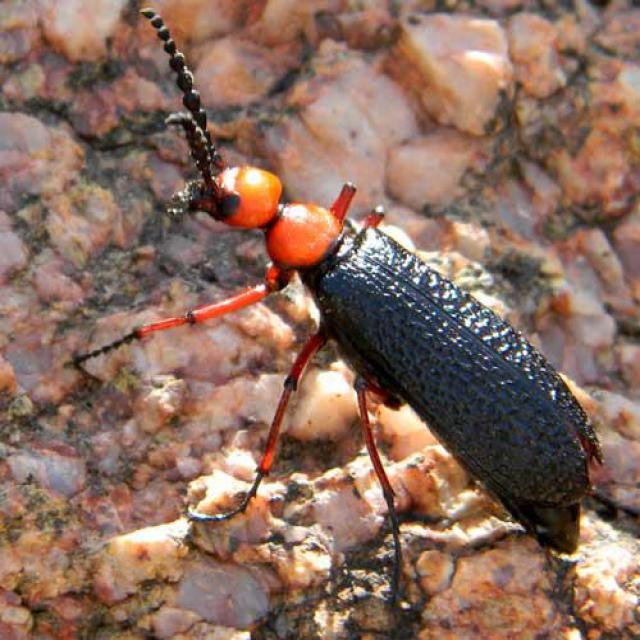BlisterBeetle-Adult-: (96, 5, 620, 586)
